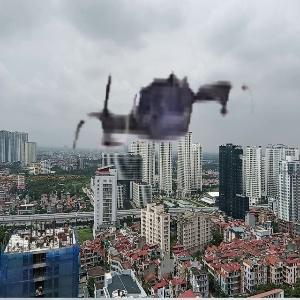drone: (64, 22, 269, 227)
